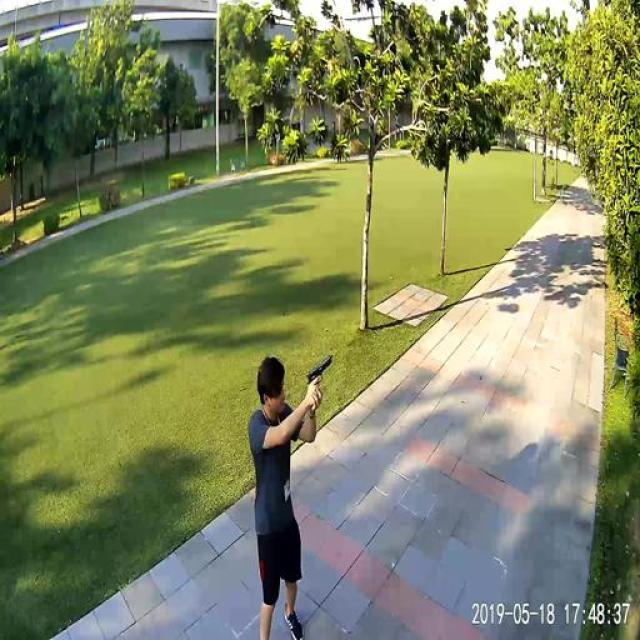Gun: (306, 347, 338, 395)
